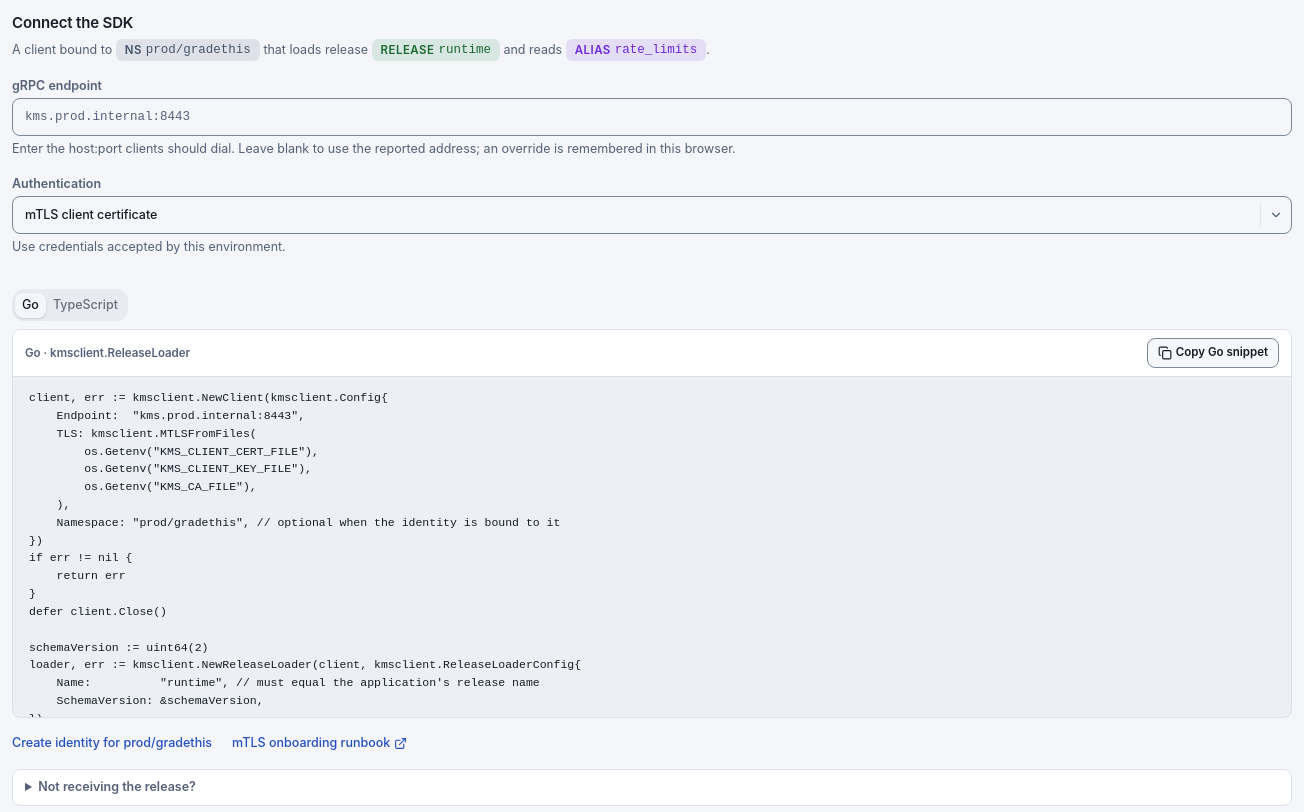
ConnectSdkPanel › shows the Go snippet by default with the health endpoint, then switches to TypeScript
Expected: the button named "Copy Go snippet" is shown, x1=1147 y1=338 x2=1279 y2=368
Click the tab "TypeScript": (85, 305) x1=46 y1=293 x2=125 y2=318
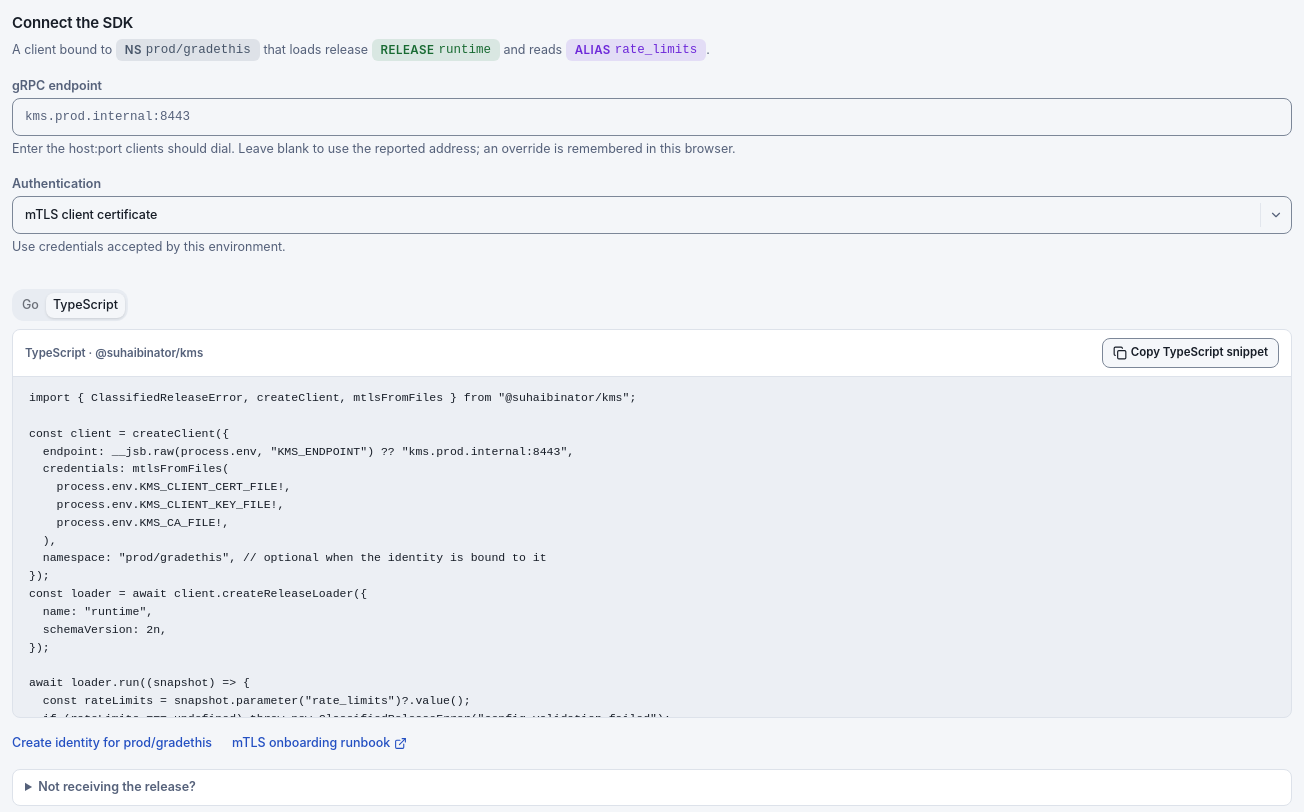
Expected: the text "name: \"runtime\"" is shown, x1=29 y1=391 x2=671 y2=717
Now the text "schemaVersion: 2n" is shown, box x1=29 y1=391 x2=671 y2=717
